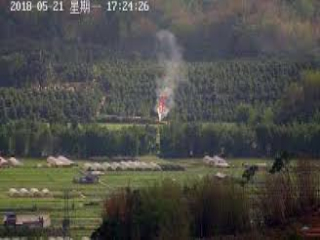fire: (153, 94, 169, 123)
smoke: (145, 29, 187, 100)
